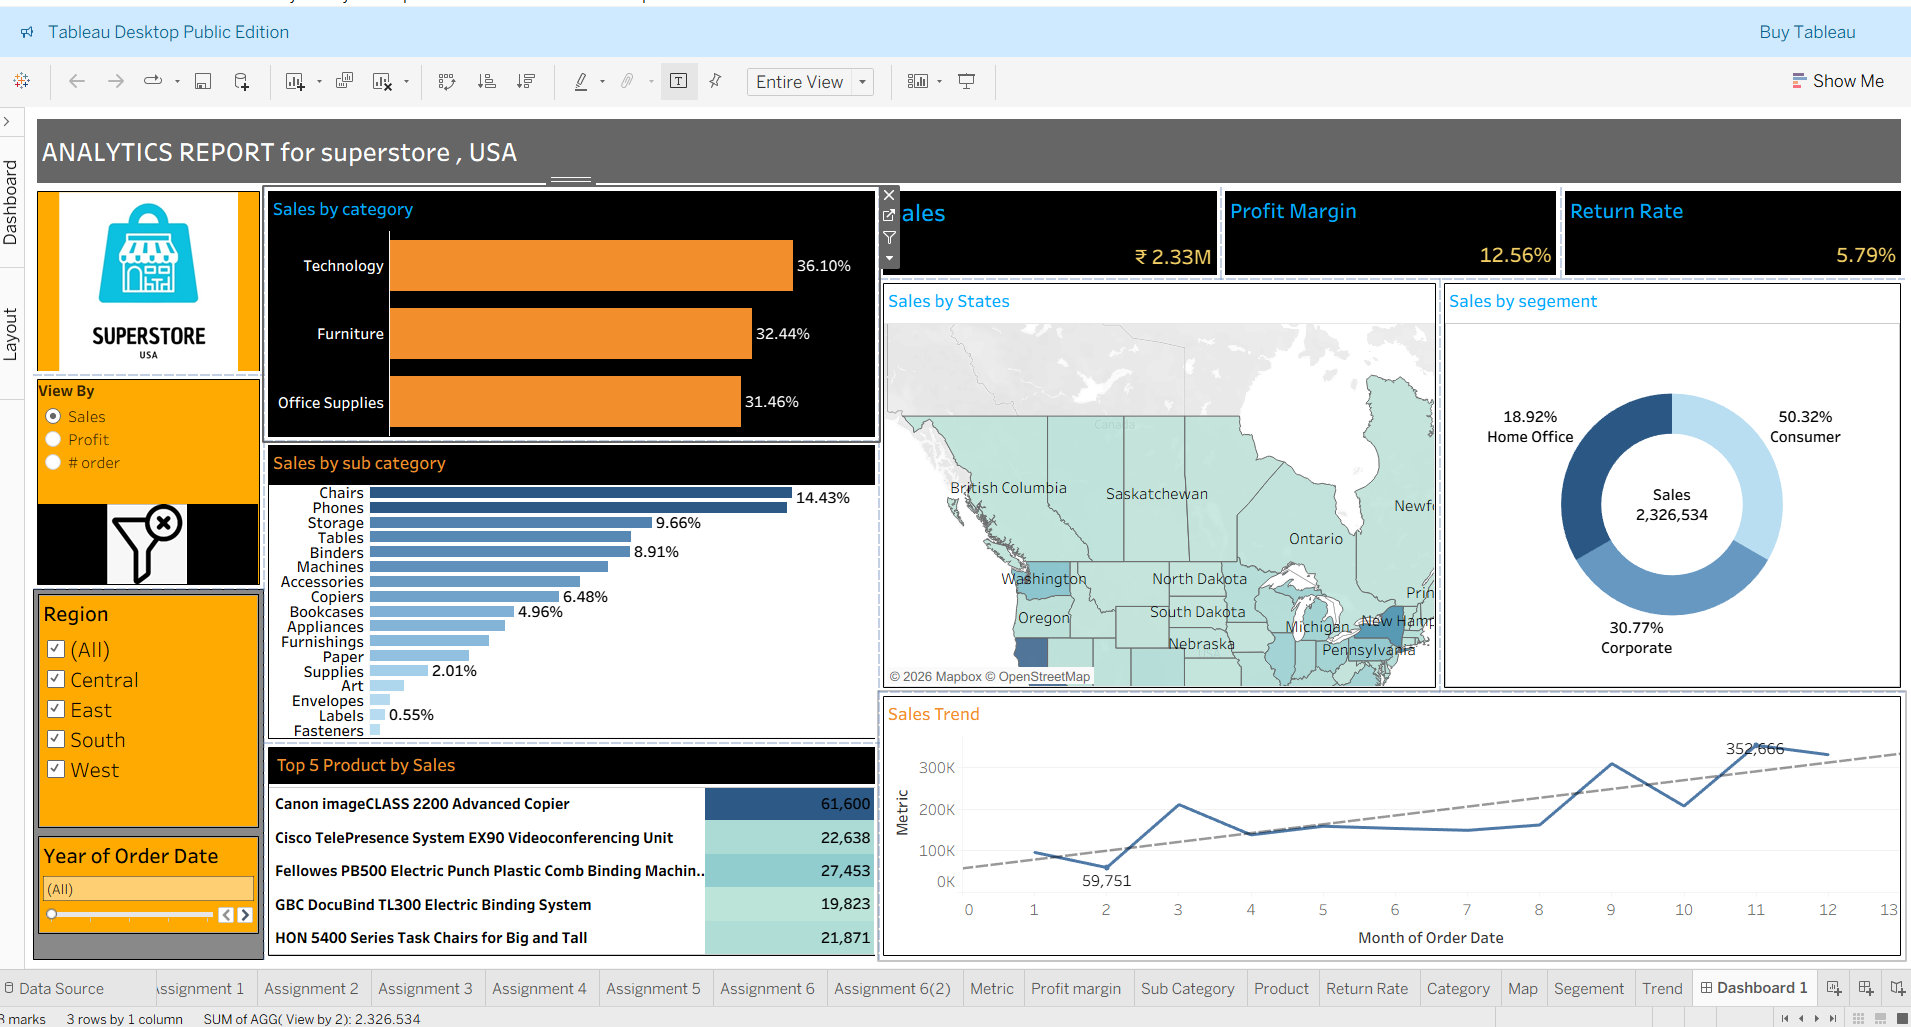

Layout of this report page (visuals, bound fields, positions):
{"tool":"tableau","page":{"name":"Dashboard 1","canvas":[1000,1000],"units":"permille","ordinal":0},"visuals":[{"type":"text","box":[4.2,10.7,991.5,83.1]},{"type":"image","param":"Image/superstore logo.jpeg","box":[4.2,93.8,122.1,218.3]},{"type":"worksheet","title":"Category","mark":"Automatic","rows":["Category"],"cols":["Calculation_0526450211389447"],"box":[126.4,93.8,326.1,294.4]},{"type":"worksheet","title":"Metric","mark":"Automatic","box":[452.5,93.8,181.1,106.7]},{"type":"worksheet","title":"Profit margin","mark":"Automatic","box":[633.6,93.8,179.8,106.7]},{"type":"worksheet","title":"Return Rate","mark":"Automatic","box":[813.4,93.8,182.4,106.7]},{"type":"worksheet","title":"Map","mark":"Multipolygon","box":[452.5,200.6,297.2,478.4]},{"type":"worksheet","title":"Segement","mark":"Pie","rows":["Calculation_0526450394193935","Calculation_0526450394247185"],"box":[749.7,200.6,246.1,478.4]},{"type":"parameter","param":"[Parameters].[Parameter 2]","box":[4.2,312.2,122.1,247.8]},{"type":"worksheet","title":"Sub Category","mark":"Automatic","rows":["Sub-Category"],"cols":["Calculation_0526450211389447"],"box":[126.4,388.2,326.1,349.6]},{"type":"dashboard-object","box":[6.4,461.1,116.9,92.5]},{"type":"filter","title":"Metric","param":"[federated.05r2rap0kdinie1c75luy1e9y9s3].[none:Region:nk]","box":[4.8,561.3,121,324.4]},{"type":"worksheet","title":"Trend","mark":"Automatic","rows":["Calculation_0526450211389447"],"cols":["Order Date"],"box":[452.5,678.9,543.3,310.3]},{"type":"worksheet","title":"Product","mark":"Square","rows":["Product Name"],"box":[126.4,737.8,326.1,251.5]},{"type":"filter","title":"Metric","param":"[federated.05r2rap0kdinie1c75luy1e9y9s3].[yr:Order Date:ok]","box":[4.8,885.7,121,102.2]}]}

Visuals, with their boxes on the dashboard's canvas, which has no fixed pixel size, in thousandths of its width and height (x1, y1, x2, y2). These are canvas units, not pixel positions in the 1911x1027 screenshot, which may show the page scaled, cropped or inside an application window:
text: 4 11 996 94
image: 4 94 126 312
"Category" worksheet: 126 94 452 388
"Metric" worksheet: 452 94 634 200
"Profit margin" worksheet: 634 94 813 200
"Return Rate" worksheet: 813 94 996 200
"Map" worksheet (Multipolygon marks): 452 201 750 679
"Segement" worksheet (Pie marks): 750 201 996 679
parameter: 4 312 126 560
"Sub Category" worksheet: 126 388 452 738
dashboard-object: 6 461 123 554
"Metric" filter: 5 561 126 886
"Trend" worksheet: 452 679 996 989
"Product" worksheet (Square marks): 126 738 452 989
"Metric" filter: 5 886 126 988
